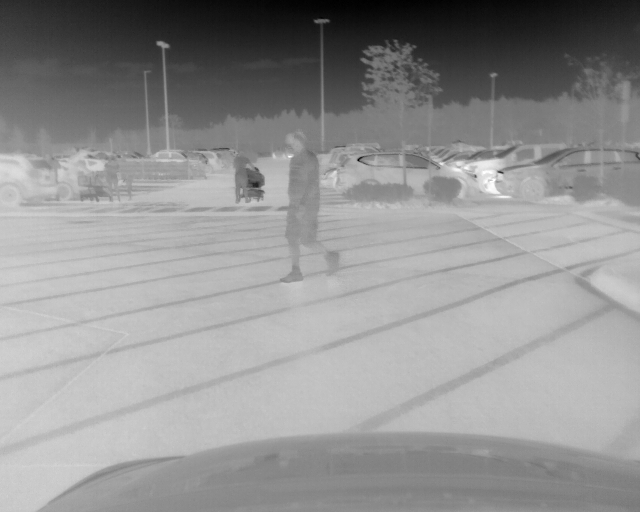car: (495, 145, 640, 204), (335, 151, 478, 201), (457, 142, 573, 196), (1, 153, 64, 210), (59, 160, 97, 200), (153, 148, 208, 168), (199, 150, 225, 176), (272, 147, 293, 160)
people: (280, 130, 341, 286), (232, 149, 249, 204), (105, 155, 120, 203), (121, 158, 136, 201)
